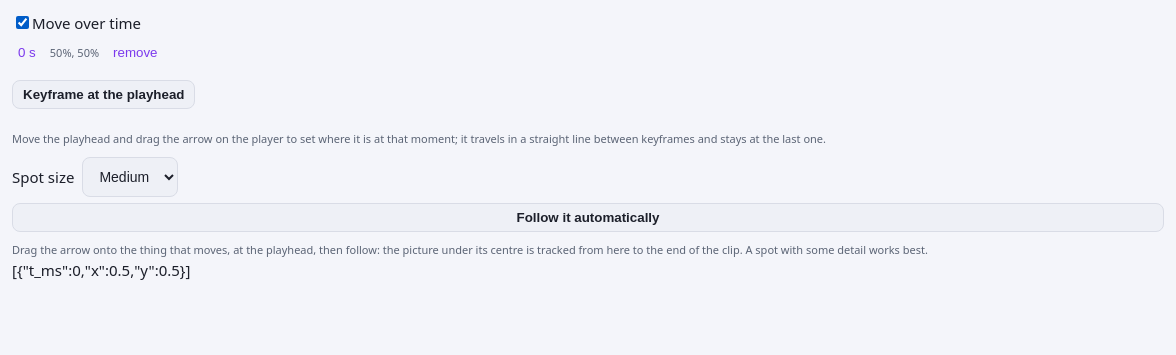
Test: Follow it automatically › does not change the path when the server finds no keyframes
Click the button "Follow it automatically" at (588, 218), box [12,203,1164,232]
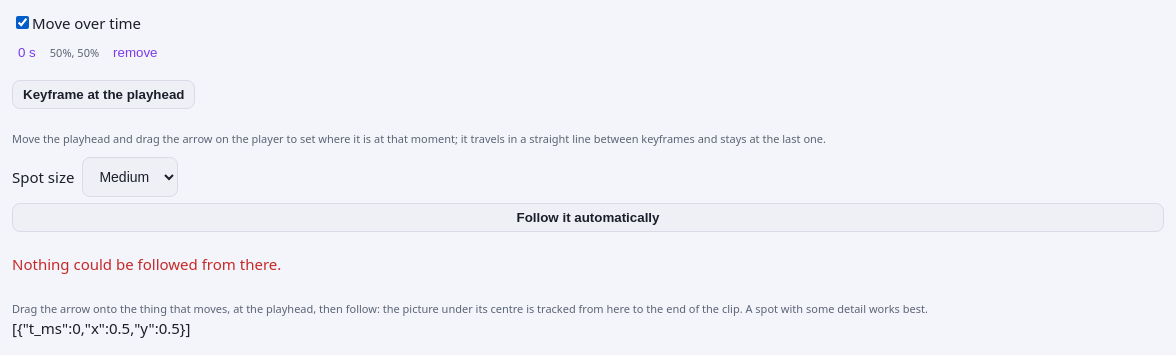
Check: the message shows "Nothing could be followed", box [12,254,281,274]
